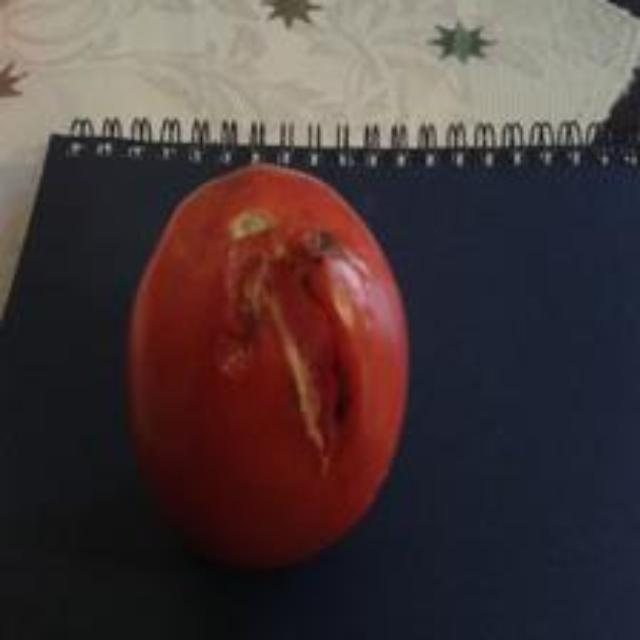defect: (121, 160, 414, 567)
